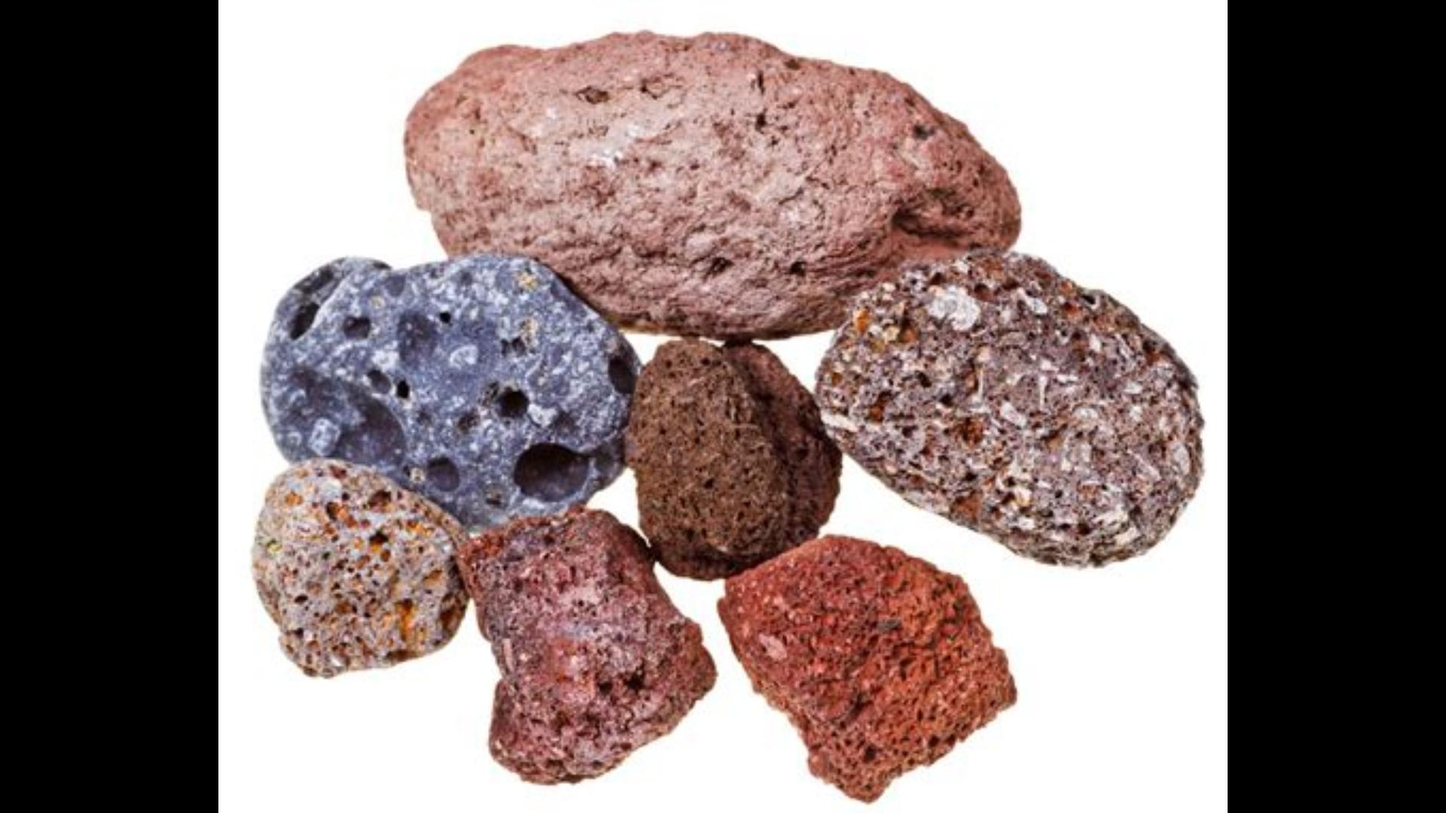rock: (404, 30, 1022, 337), (816, 253, 1202, 561), (261, 255, 638, 528), (719, 535, 1017, 796), (455, 509, 716, 781), (627, 338, 840, 579), (250, 459, 471, 678)
